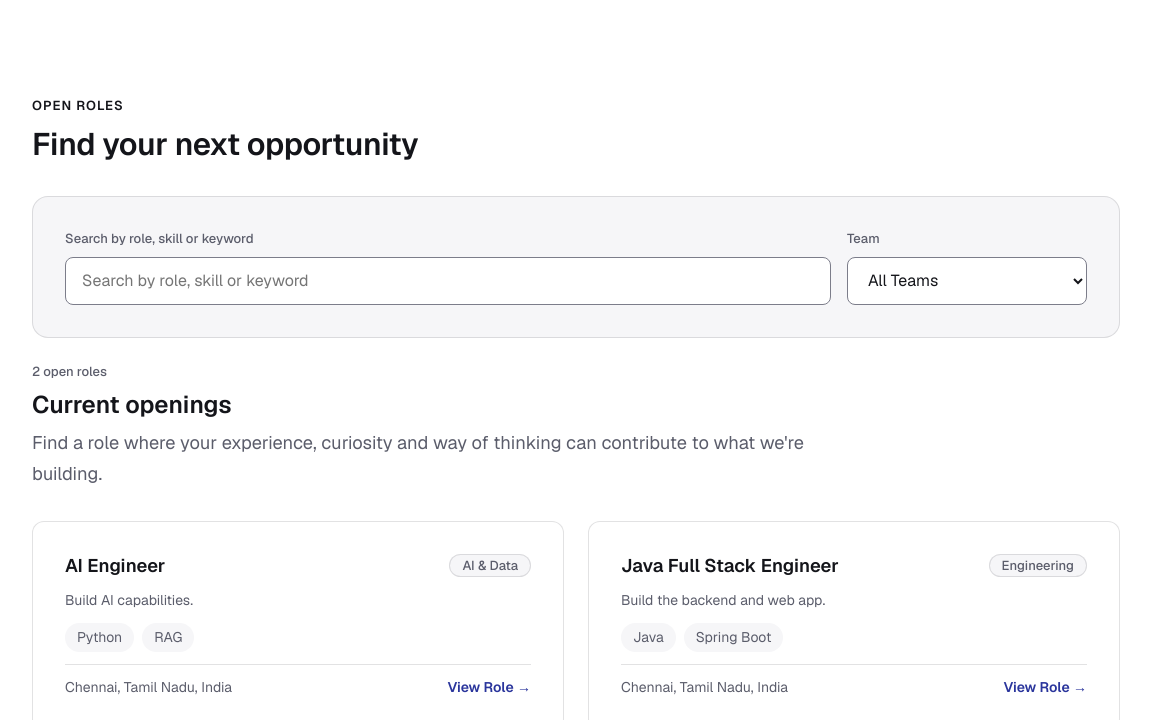
it: CurrentOpeningsSection › filters results by team
This screenshot has width=1152, height=720.
Select "AI & Data" in the dropdown labelled "Team" at (967, 280), box [847, 256, 1087, 304]
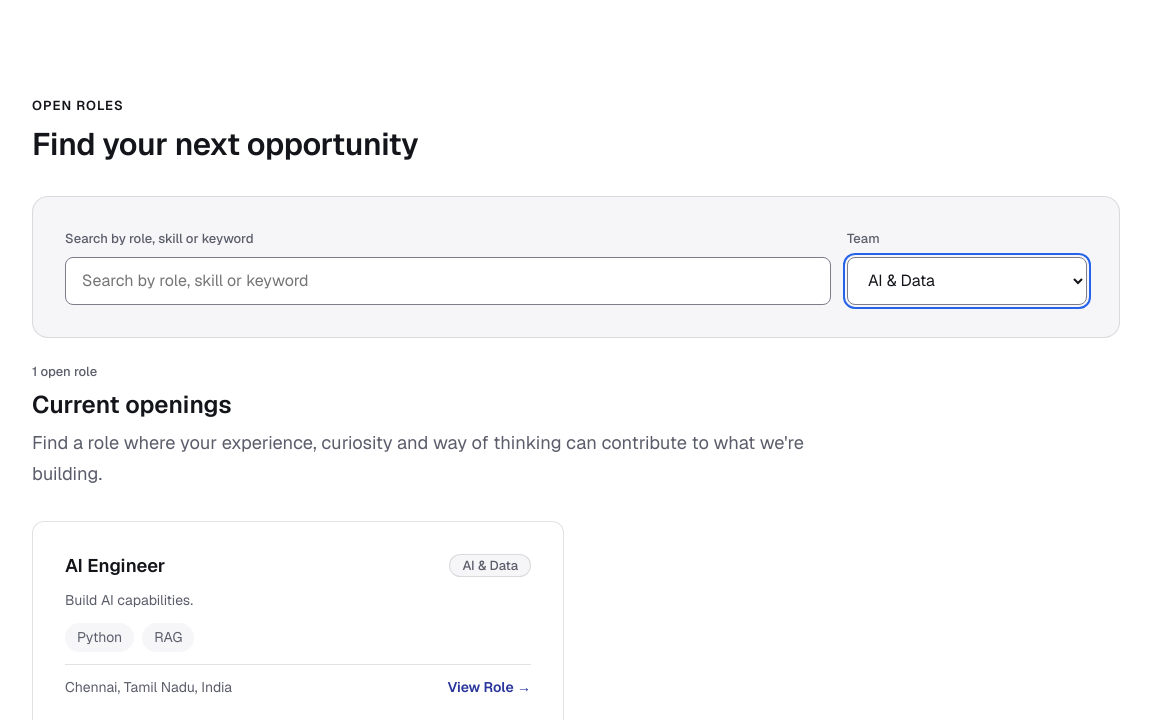
Check: the heading "AI Engineer" is shown, box [65, 554, 165, 578]
Check: the link "Java Full Stack Engineer" is gone
